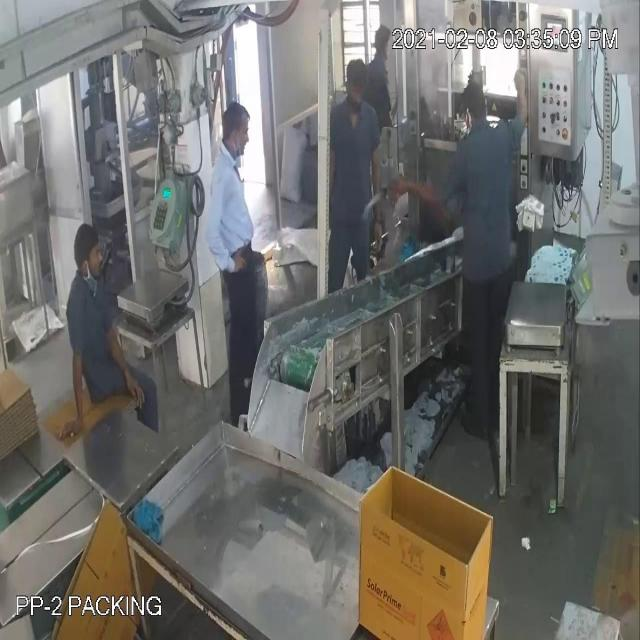No_Gloves: (16, 62, 517, 390)
